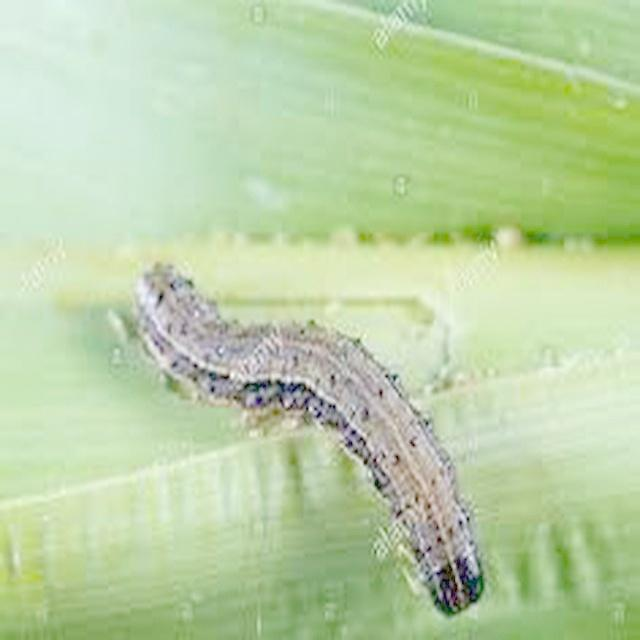gusano_cogollero: (129, 256, 492, 618)
